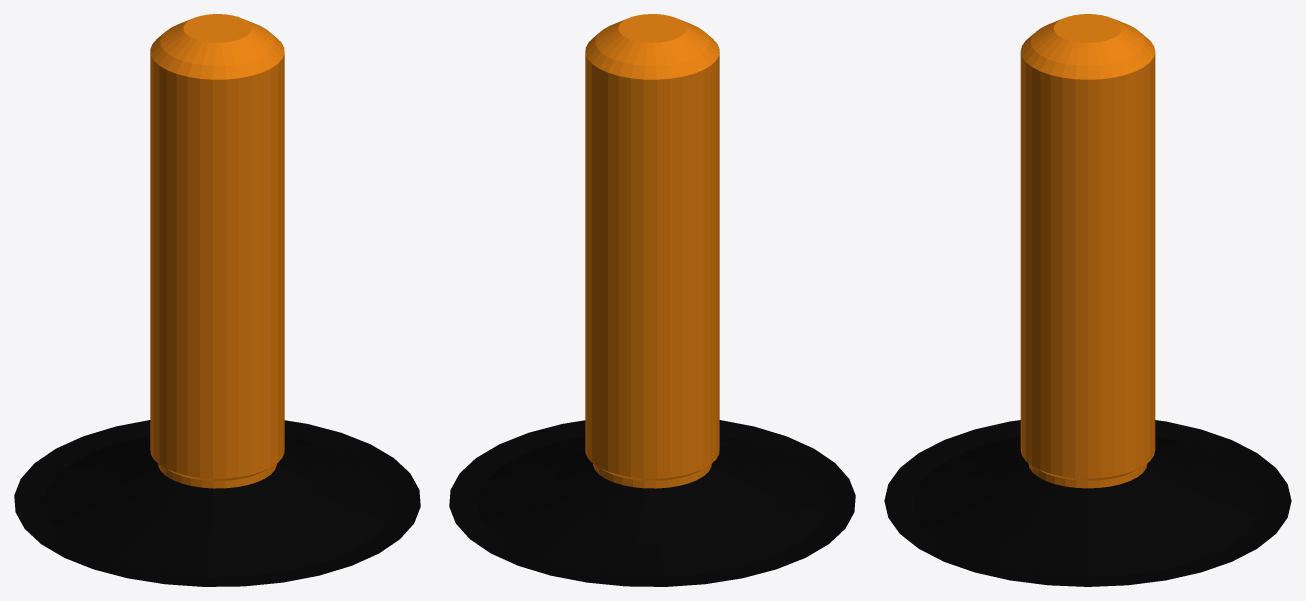
The model's file is bellet.glb.
3 views of the same model, side by side, from view 1: azimuth 30°, elevation 25°; view 2: azimuth 150°, elevation 25°; view 3: azimuth 270°, elevation 25° (orthographic).
Parts seen in each view (by area): view 1: Cylinder; view 2: Cylinder; view 3: Cylinder.
Boxes of the visible parts, x1,y1,x2,y2 form: Cylinder: [14, 14, 420, 586]; Cylinder: [449, 14, 855, 586]; Cylinder: [884, 14, 1291, 586].
Size of the model in its own units: 6.05 by 7.79 by 6.05.
